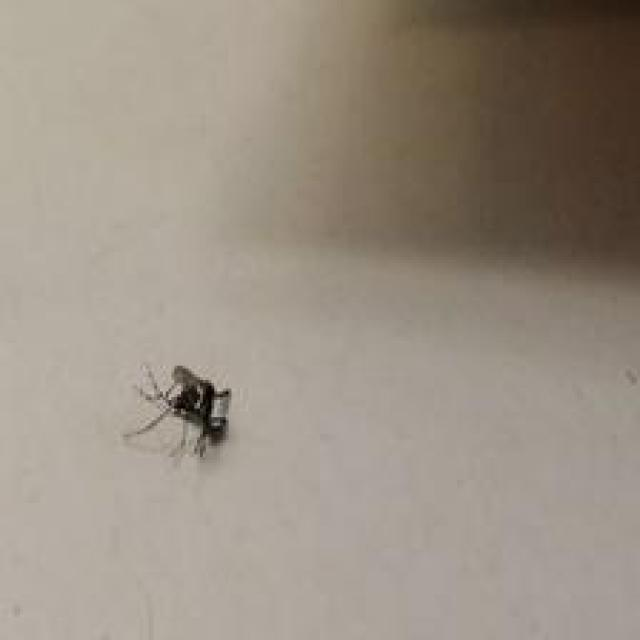Aedes albopictus: (121, 363, 233, 460)
